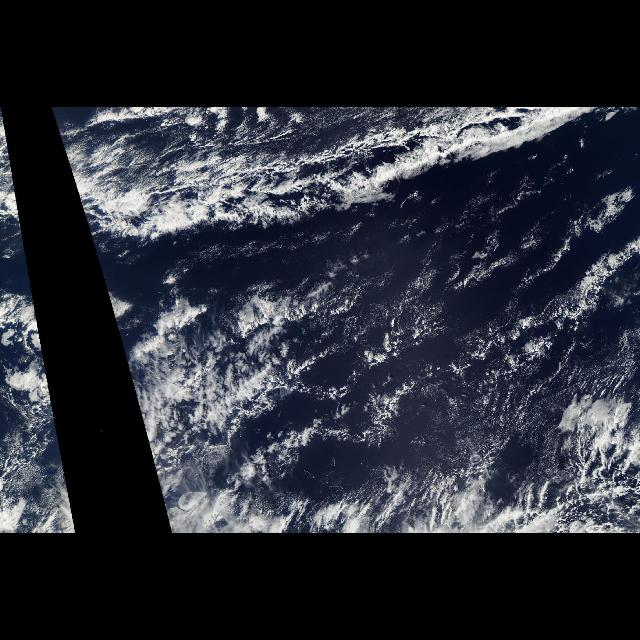Fish: (55, 108, 640, 248), (1, 154, 29, 248)
Gravel: (282, 227, 638, 429)
Sugar: (346, 227, 640, 533)
